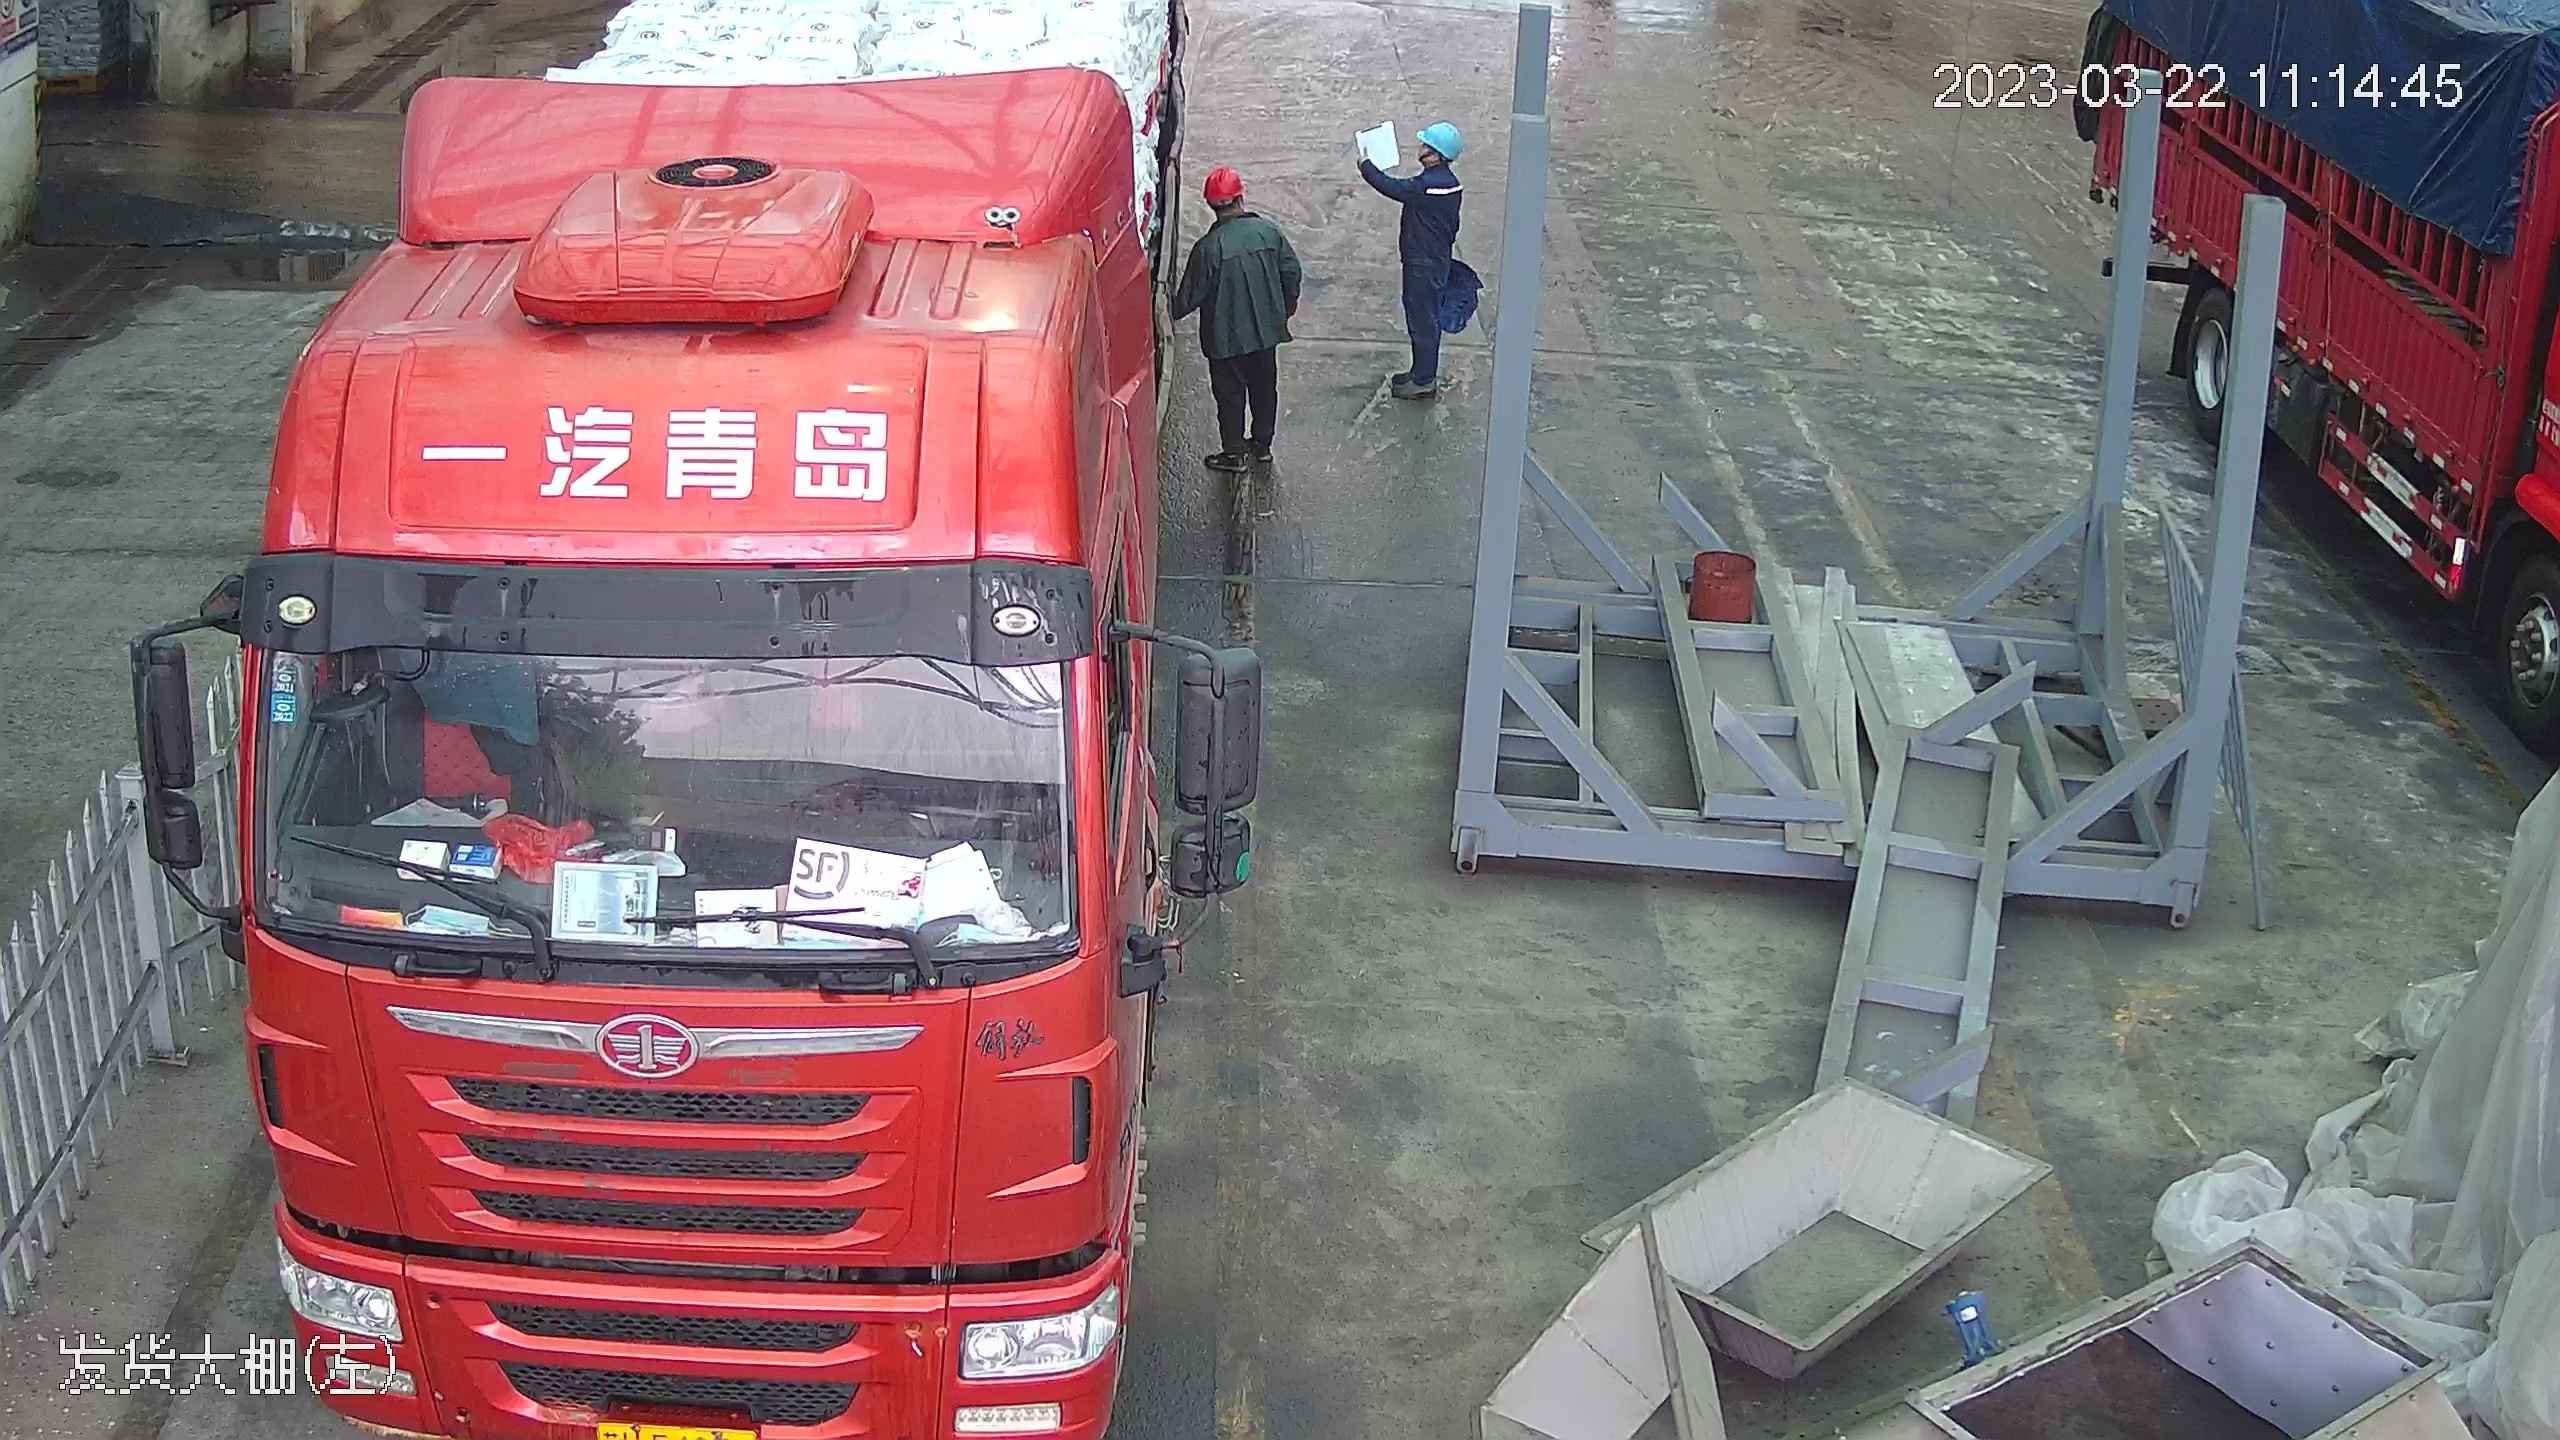head: (1190, 163, 1289, 260), (1393, 123, 1466, 205)
helmet: (1202, 163, 1247, 200), (1419, 121, 1459, 154)
people: (1182, 160, 1303, 471), (1362, 119, 1474, 401)
truck: (167, 0, 1277, 1440), (2079, 0, 2559, 795)
